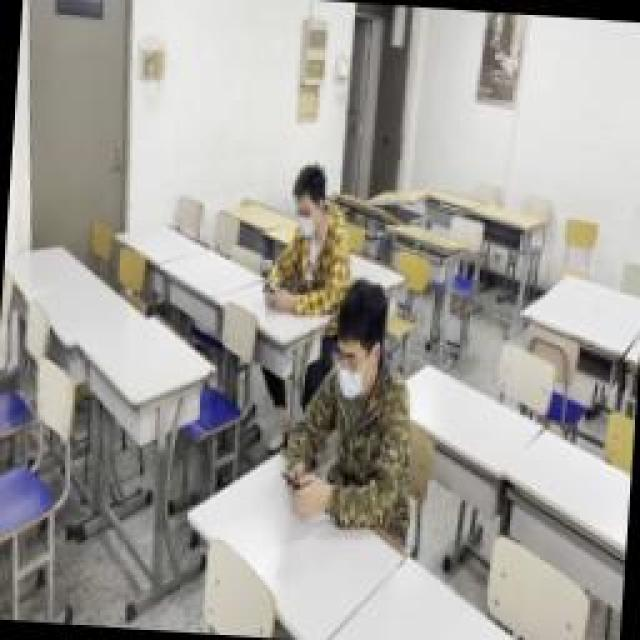phone: (280, 315, 412, 530), (263, 162, 345, 312)
